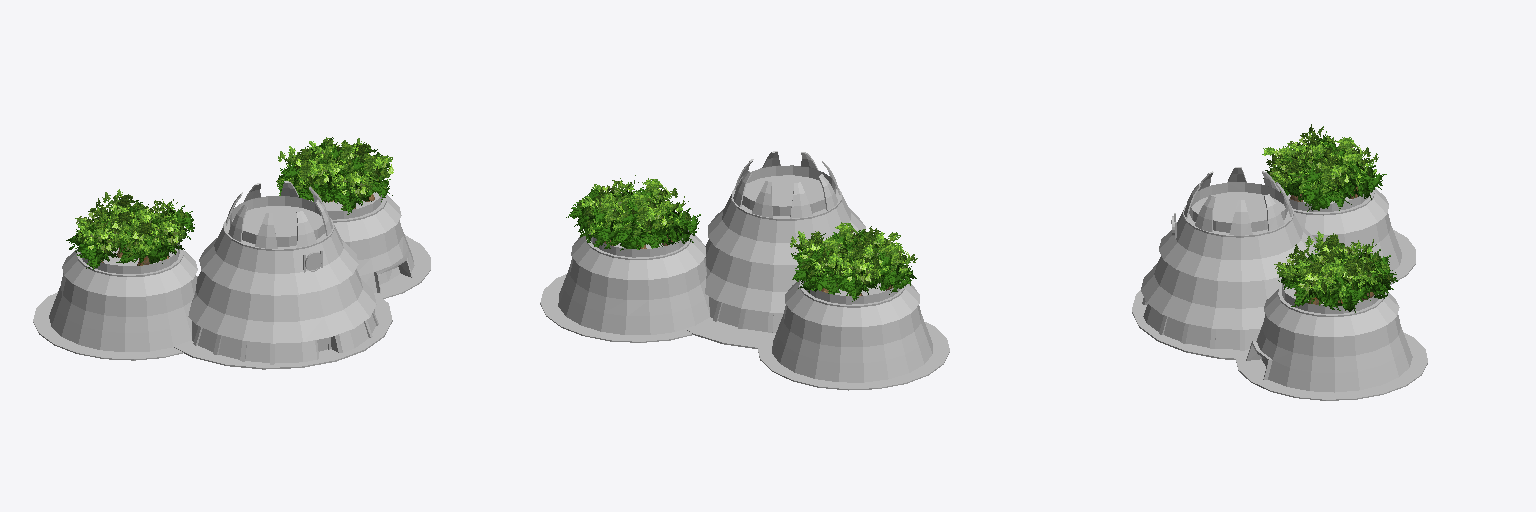
The picture shows the model from 3 angles: view 1: azimuth 30°, elevation 25°; view 2: azimuth 150°, elevation 25°; view 3: azimuth 270°, elevation 25°; orthographic projection.
Parts seen in each view (by area): view 1: Office_Untitled.027, polySurface323_Untitled.017, polySurface459_Untitled.025; view 2: Office_Untitled.027, polySurface323_Untitled.017, polySurface459_Untitled.025; view 3: Office_Untitled.027, polySurface323_Untitled.017, polySurface459_Untitled.025.
Part boxes in pixels (x1,y1,x2,y2): Office_Untitled.027: (33, 181, 430, 369); polySurface323_Untitled.017: (66, 189, 194, 269); polySurface459_Untitled.025: (276, 137, 393, 214); Office_Untitled.027: (540, 151, 949, 390); polySurface323_Untitled.017: (790, 222, 917, 301); polySurface459_Untitled.025: (566, 175, 700, 250); Office_Untitled.027: (1132, 167, 1427, 400); polySurface323_Untitled.017: (1262, 124, 1386, 211); polySurface459_Untitled.025: (1274, 231, 1397, 312).
Bounding box in the file's own units: 126 × 46.83 × 85.77.
Materials: 2 (1 with a texture image).